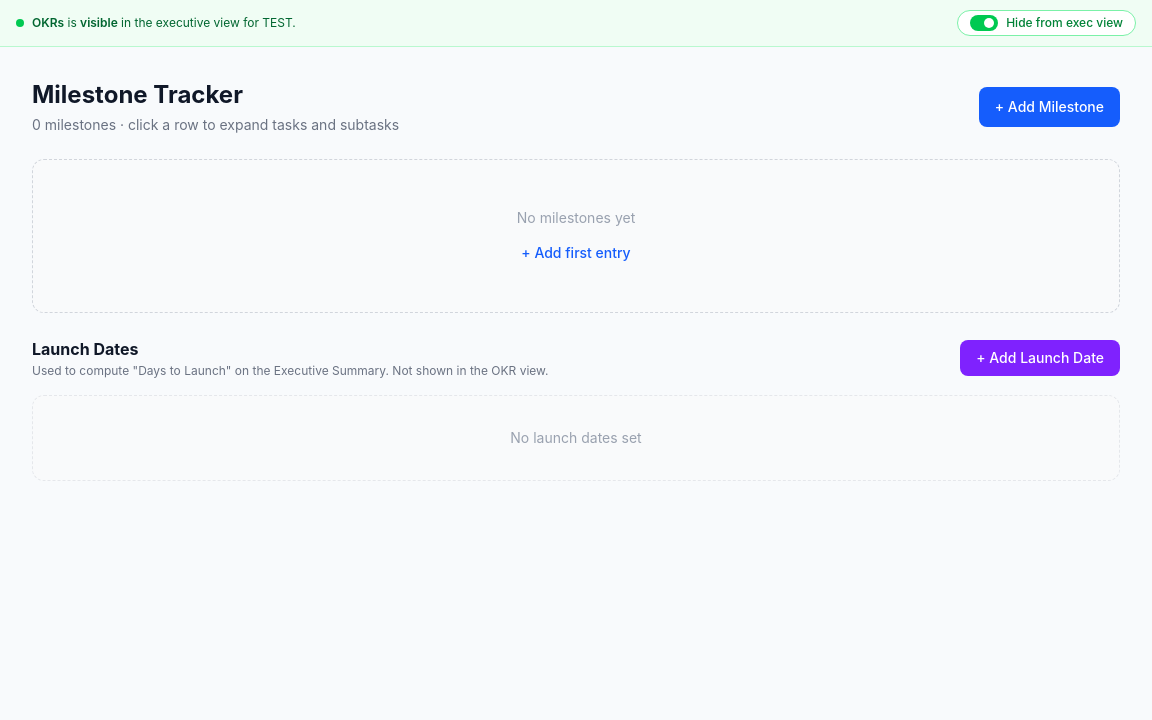
Test: OKREditor › T-32.02: "+ Add Milestone" button opens modal
The width and height of the screenshot is (1152, 720).
Click the button "+ Add Milestone" at (1049, 107), box [979,87,1120,127]
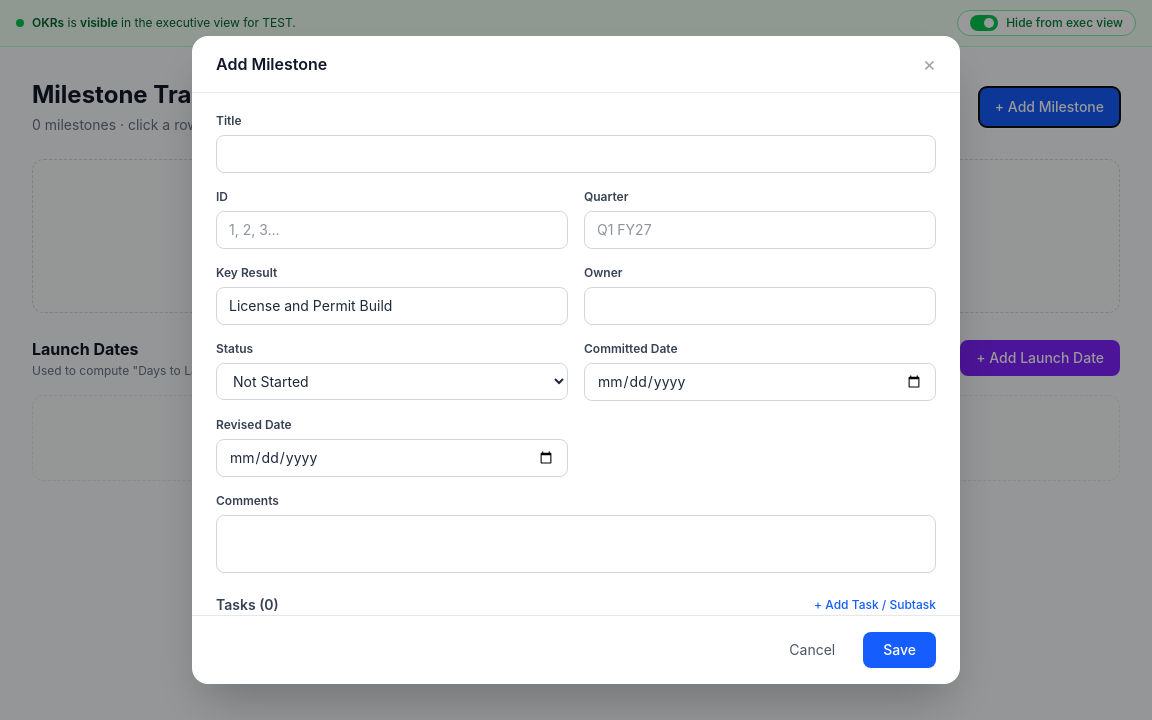
Expected: the heading "Add Milestone" is shown, [216,52,327,76]
